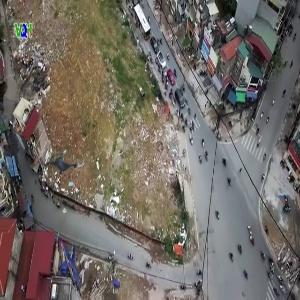drone: (47, 144, 86, 183)
